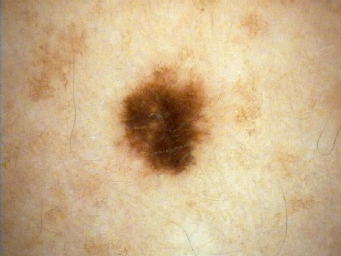nevus: (121, 81, 207, 173)
